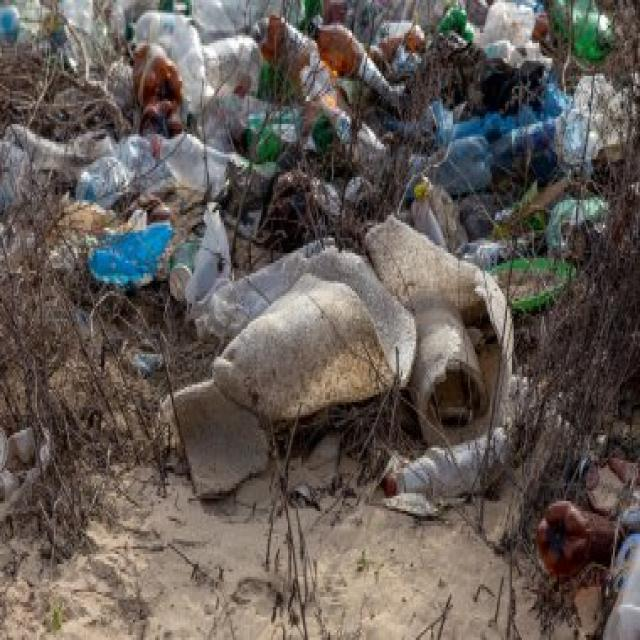garbage: (3, 0, 634, 514)
